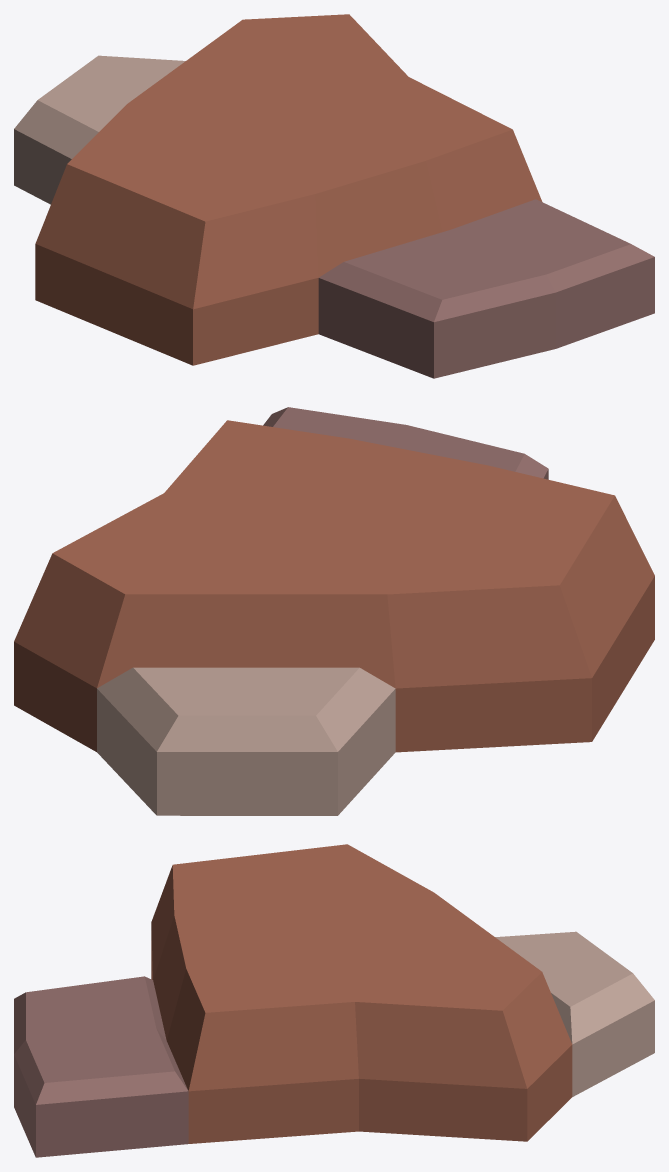
Rendered from rock-type4-03-orange.glb.
3 views of the same model, one above another, from view 1: azimuth 30°, elevation 25°; view 2: azimuth 150°, elevation 25°; view 3: azimuth 270°, elevation 25° (orthographic). The views are drawn at different scales.
Visible parts, largest first — view 1: Rock_Type4_03_mesh; view 2: Rock_Type4_03_mesh; view 3: Rock_Type4_03_mesh.
Part boxes in pixels (x1=…): Rock_Type4_03_mesh: x1=14, y1=14, x2=654, y2=378; Rock_Type4_03_mesh: x1=14, y1=407, x2=654, y2=815; Rock_Type4_03_mesh: x1=14, y1=844, x2=654, y2=1157.
Size of the model in its own units: 1.52 by 0.4176 by 2.
Materials: 1 (1 with a texture image).
